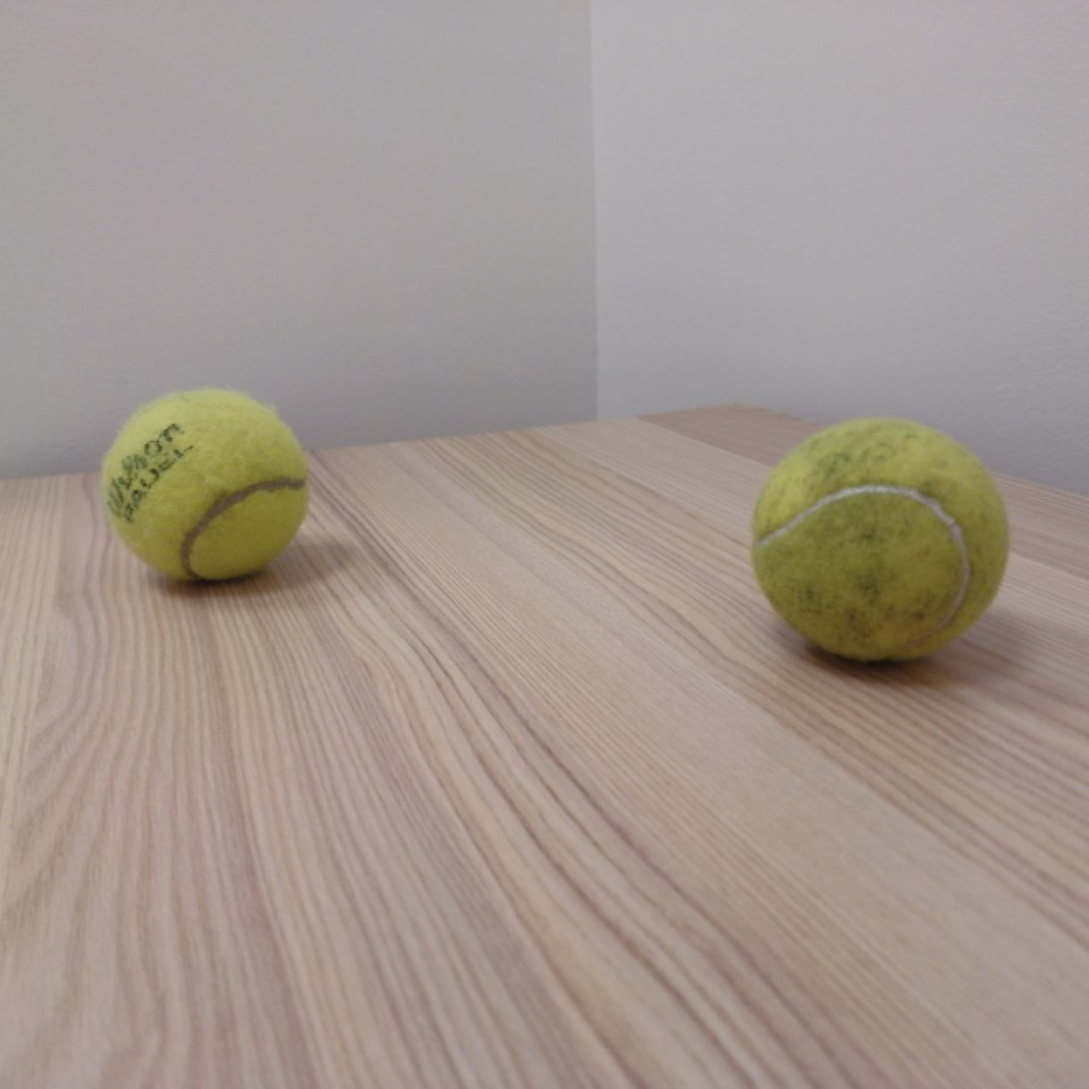tennis-ball: (750, 415, 1008, 668), (101, 385, 308, 586)
